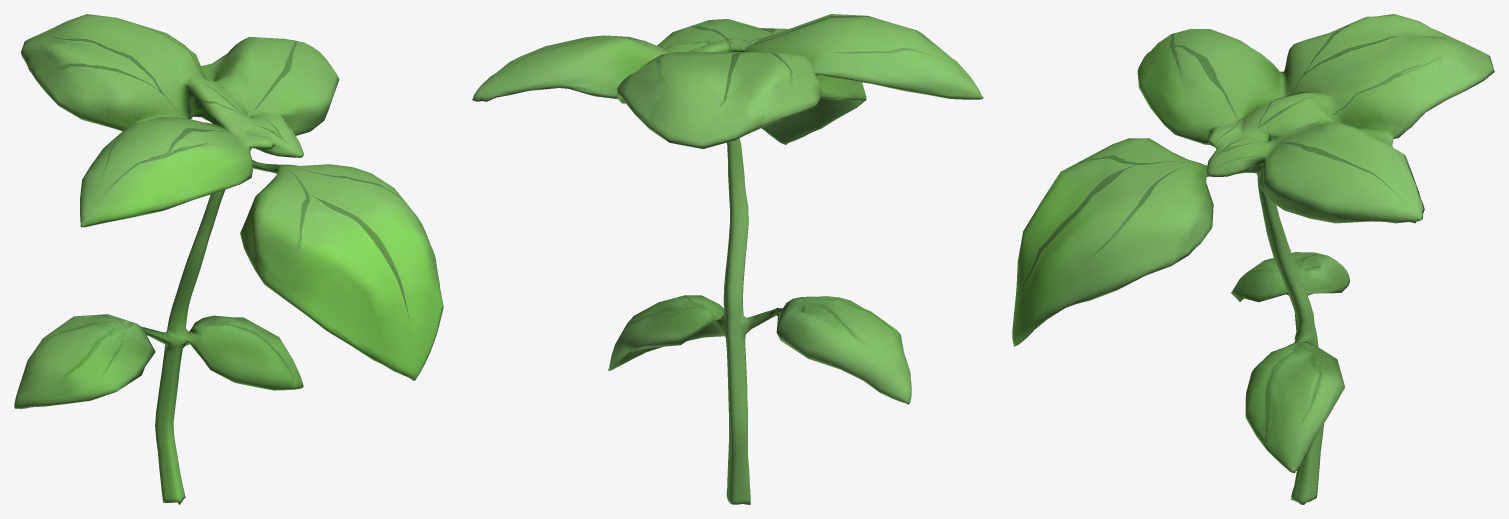
Rendered from basil_m.glb.
3 renders of one model, left to right at view 1: azimuth 30°, elevation 25°; view 2: azimuth 150°, elevation 25°; view 3: azimuth 270°, elevation 25°, orthographic. The views are drawn at different scales.
Size of the model in its own units: 1.65 by 2 by 1.95.
Materials: 1 (1 with a texture image).
